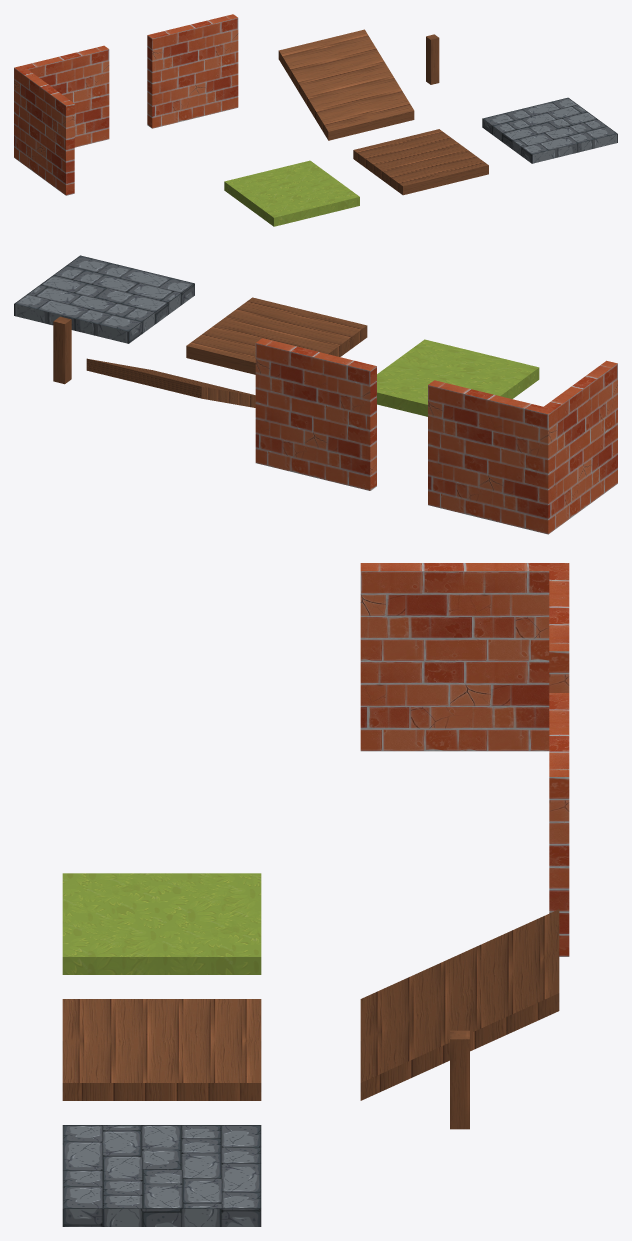
3 renders of one model, top to bottom at view 1: azimuth 30°, elevation 25°; view 2: azimuth 150°, elevation 25°; view 3: azimuth 270°, elevation 25°, orthographic. The views are drawn at different scales.
Visible parts, largest first — view 1: WallCornerMesh -col, WoodRampMesh -col, WallMesh -col, StoneMesh -col, GrassMesh -col, WoodMesh -col, WoodPillarMesh -col; view 2: WallCornerMesh -col, WallMesh -col, StoneMesh -col, WoodMesh -col, GrassMesh -col, WoodRampMesh -col, WoodPillarMesh -col; view 3: WallCornerMesh -col, StoneMesh -col, WoodMesh -col, GrassMesh -col, WoodRampMesh -col, WallMesh -col, WoodPillarMesh -col.
Part boxes in pixels (bbox=[...]): WallCornerMesh -col: bbox=[14, 45, 109, 195]; WoodRampMesh -col: bbox=[278, 29, 414, 140]; WallMesh -col: bbox=[147, 14, 238, 128]; StoneMesh -col: bbox=[482, 97, 617, 163]; GrassMesh -col: bbox=[224, 160, 359, 226]; WoodMesh -col: bbox=[353, 129, 488, 195]; WoodPillarMesh -col: bbox=[426, 34, 439, 84]; WallCornerMesh -col: bbox=[428, 360, 617, 534]; WallMesh -col: bbox=[255, 338, 376, 490]; StoneMesh -col: bbox=[14, 255, 194, 343]; WoodMesh -col: bbox=[186, 297, 367, 374]; GrassMesh -col: bbox=[377, 339, 539, 416]; WoodRampMesh -col: bbox=[86, 358, 255, 407]; WoodPillarMesh -col: bbox=[53, 316, 71, 384]; WallCornerMesh -col: bbox=[360, 563, 569, 751]; StoneMesh -col: bbox=[62, 1125, 261, 1226]; WoodMesh -col: bbox=[62, 999, 261, 1100]; GrassMesh -col: bbox=[62, 873, 261, 974]; WoodRampMesh -col: bbox=[360, 909, 559, 1100]; WallMesh -col: bbox=[549, 693, 569, 956]; WoodPillarMesh -col: bbox=[450, 1030, 469, 1129].
Size of the model in its own units: 11.1 by 2.2 by 5.1.
4 materials, 4 textured.
